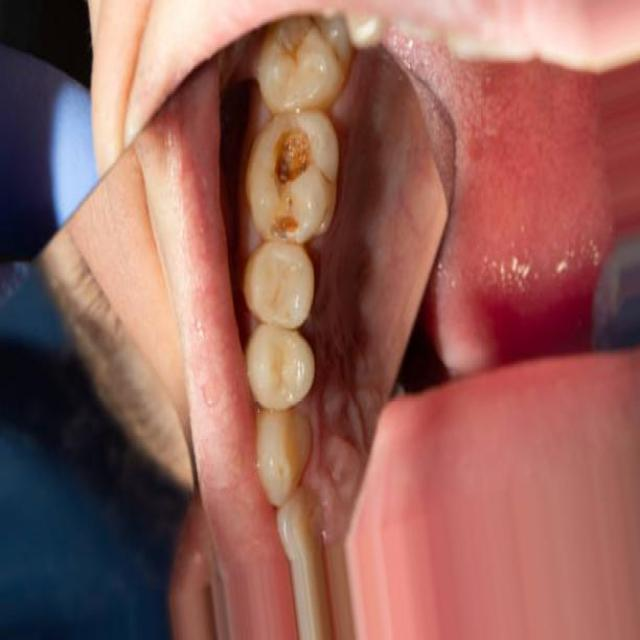caries: (255, 106, 328, 240), (255, 17, 342, 99)
